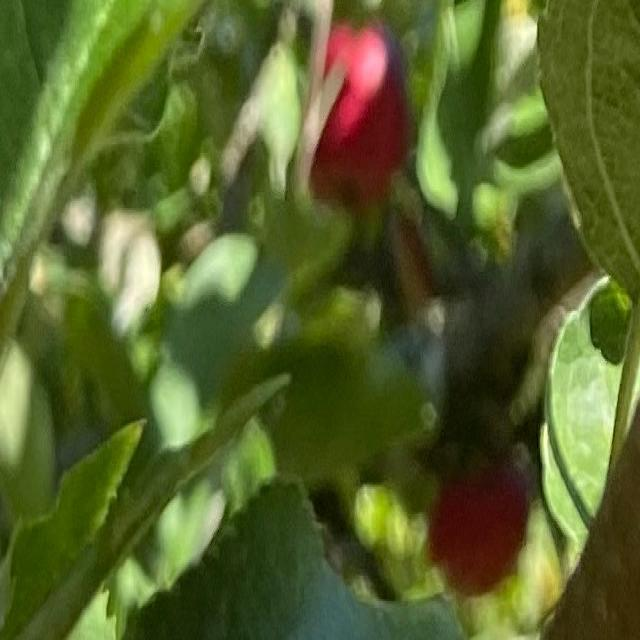Apples: (315, 25, 410, 206), (433, 446, 526, 592)
